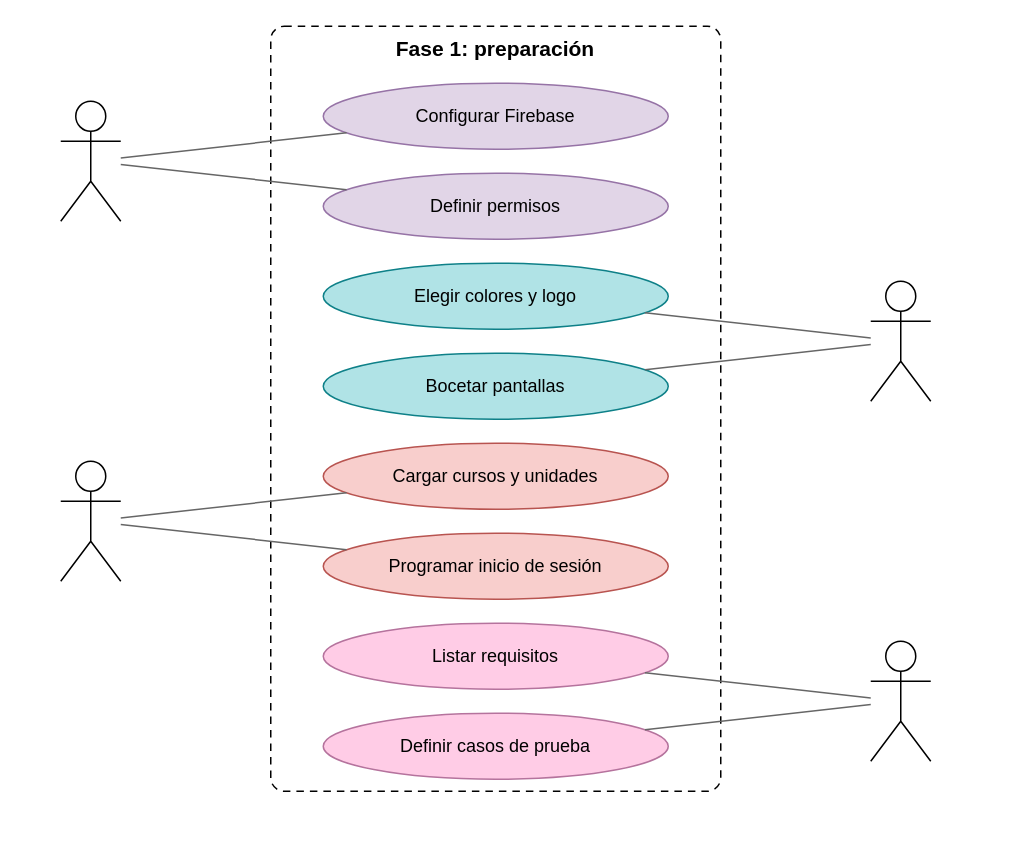
Some shapes in this 1019 by 842 pixel diagram are drawn without their labels. The centre of each missing label's shape, as x and y in pixels:
Ana Líder y Firebase: point (90, 160)
Compañero 1 Diseño de interfaz: point (900, 340)
Compañero 2 Código: point (90, 520)
Compañero 3 Pruebas y documentos: point (900, 700)
